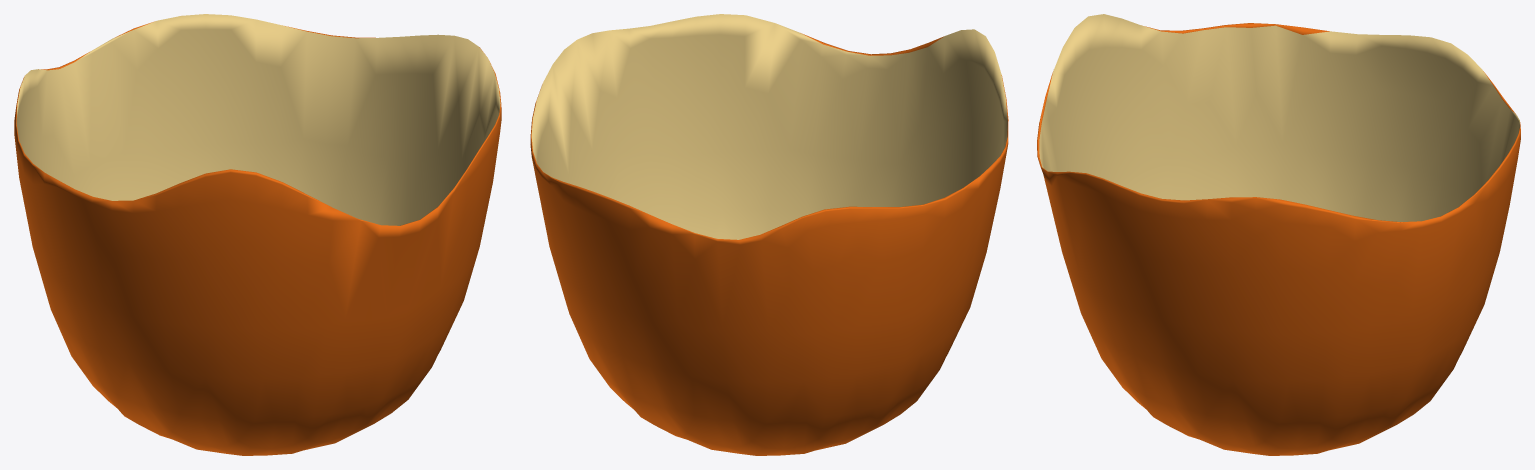
The model's file is Egg.fbx.
3 views of the same model, side by side, from view 1: azimuth 30°, elevation 25°; view 2: azimuth 150°, elevation 25°; view 3: azimuth 270°, elevation 25° (orthographic). The views are drawn at different scales.
Parts seen in each view (by area): view 1: Cylinder.001; view 2: Cylinder.001; view 3: Cylinder.001.
Boxes of the visible parts, x1,y1,x2,y2 form: Cylinder.001: (14, 14, 501, 455); Cylinder.001: (530, 14, 1008, 455); Cylinder.001: (1037, 14, 1520, 455).
Bounding box in the file's own units: 10.75 × 8.88 × 10.82.
